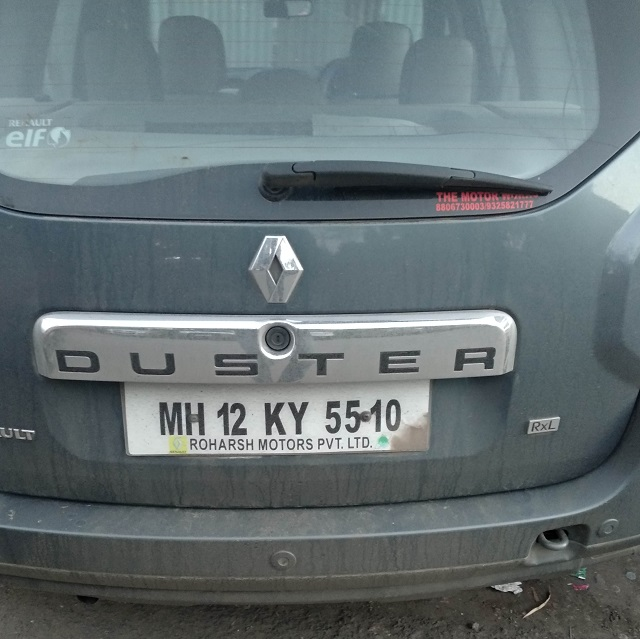licenseplate: (122, 376, 437, 457)
